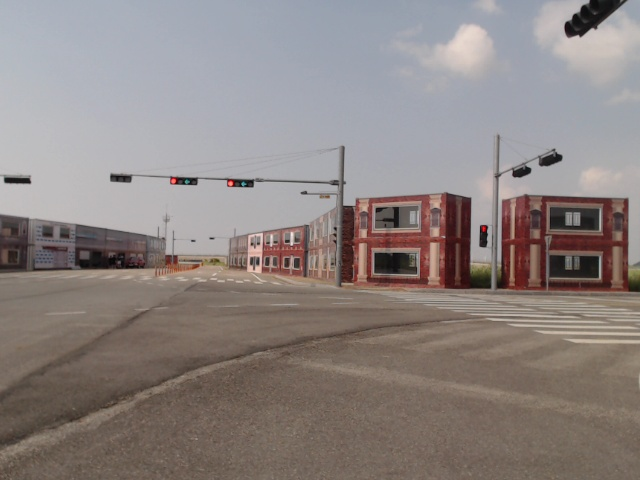left_green_4: (170, 177, 198, 185), (227, 180, 254, 188)
